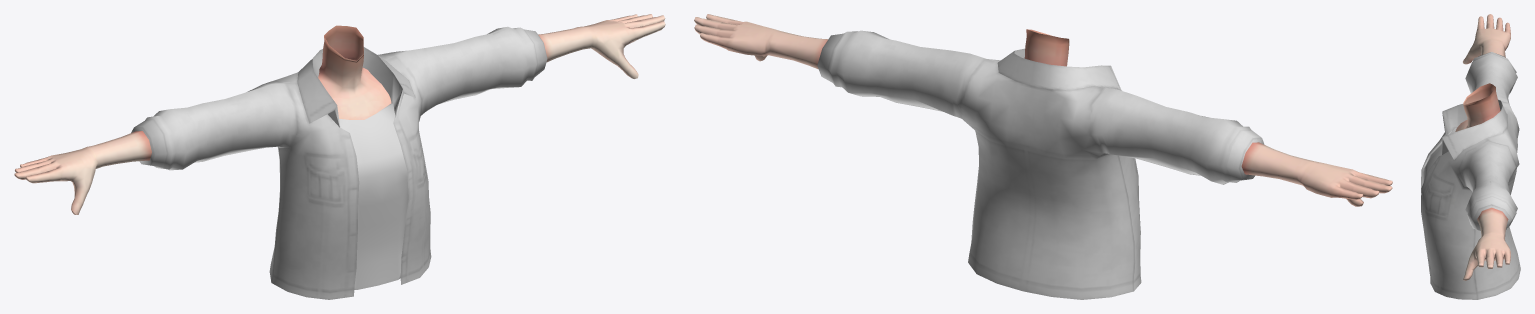
The model's file is tr0790_00_upb02.gltf.
The picture shows the model from 3 angles, left to right: view 1: azimuth 30°, elevation 25°; view 2: azimuth 150°, elevation 25°; view 3: azimuth 270°, elevation 25°; orthographic projection. The views are drawn at different scales.
Visible parts, largest first — view 1: upb02_upperbody_mesh_shape:upperbody02, upb02_upperskin_mesh_shape:upperbody02_skin; view 2: upb02_upperbody_mesh_shape:upperbody02, upb02_upperskin_mesh_shape:upperbody02_skin; view 3: upb02_upperbody_mesh_shape:upperbody02, upb02_upperskin_mesh_shape:upperbody02_skin.
Boxes of the visible parts, bbox=[...] form: upb02_upperbody_mesh_shape:upperbody02: bbox=[131, 26, 547, 299]; upb02_upperskin_mesh_shape:upperbody02_skin: bbox=[14, 14, 665, 214]; upb02_upperbody_mesh_shape:upperbody02: bbox=[817, 30, 1264, 299]; upb02_upperskin_mesh_shape:upperbody02_skin: bbox=[694, 14, 1392, 206]; upb02_upperbody_mesh_shape:upperbody02: bbox=[1421, 52, 1520, 299]; upb02_upperskin_mesh_shape:upperbody02_skin: bbox=[1455, 14, 1510, 280].
Size of what is drawn, in the model's own units: 1.63 by 0.5626 by 0.2719.
Materials: 2 (2 with a texture image).
